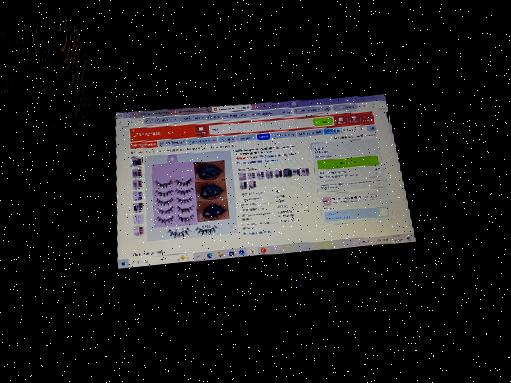aliexpress: (116, 98, 410, 258)
